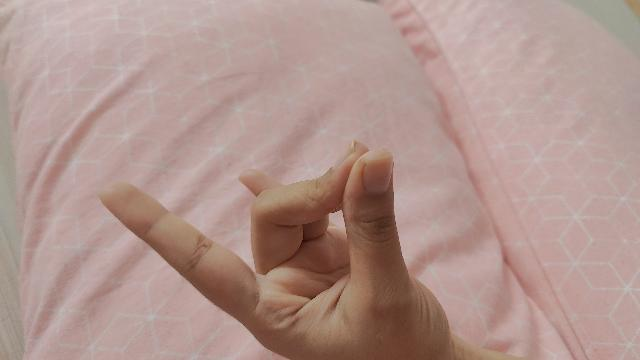sinhamukh: (97, 143, 518, 360)
